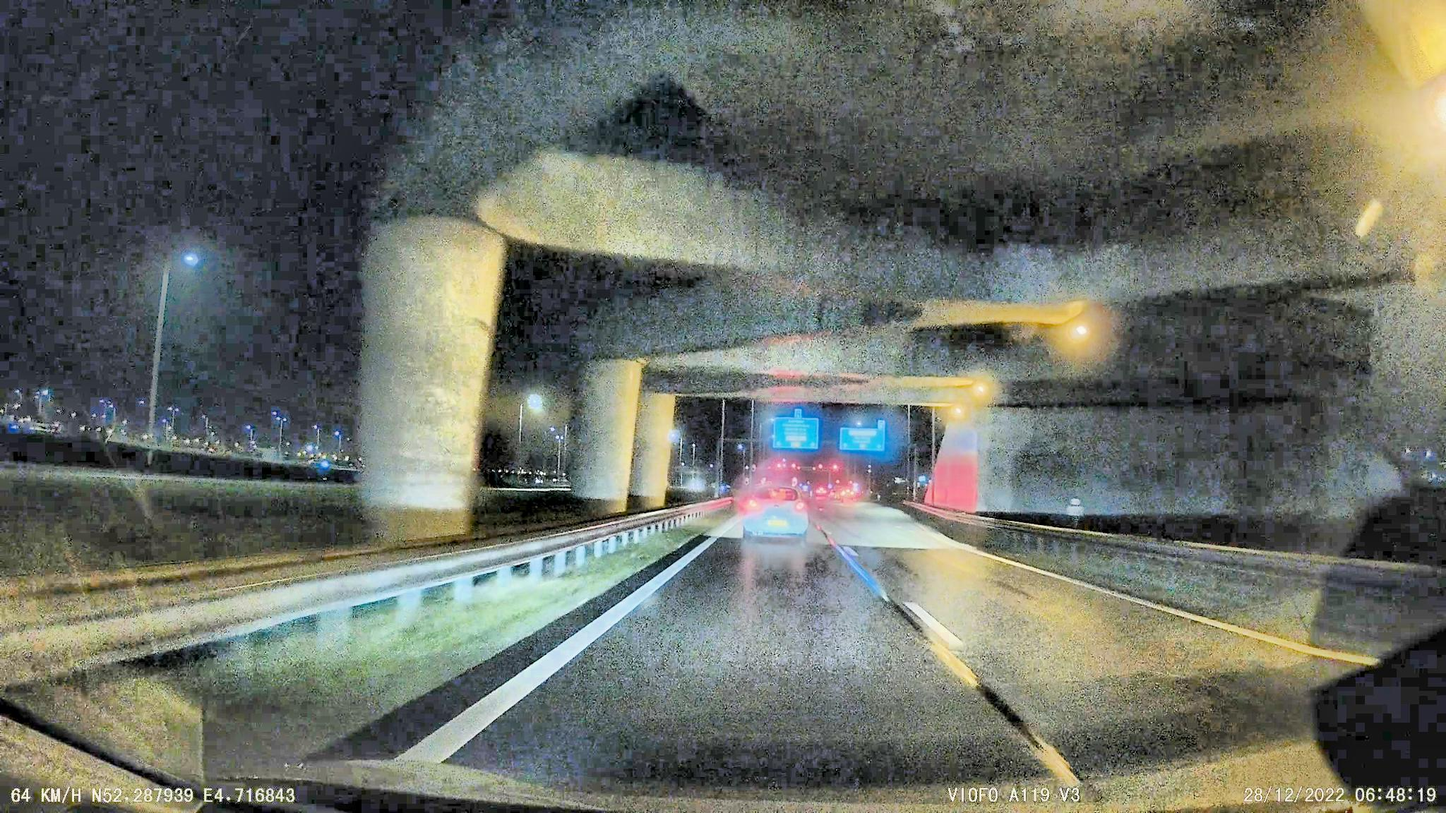Roads: (315, 512, 1352, 790)
